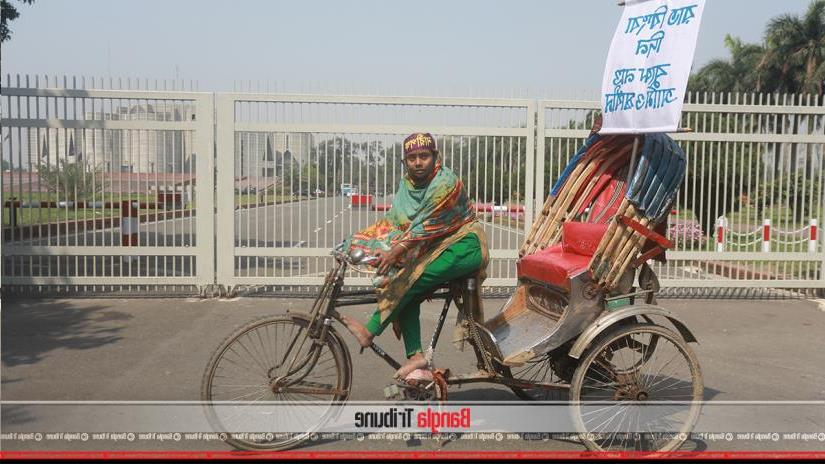Rickshaw: (222, 123, 707, 393)
